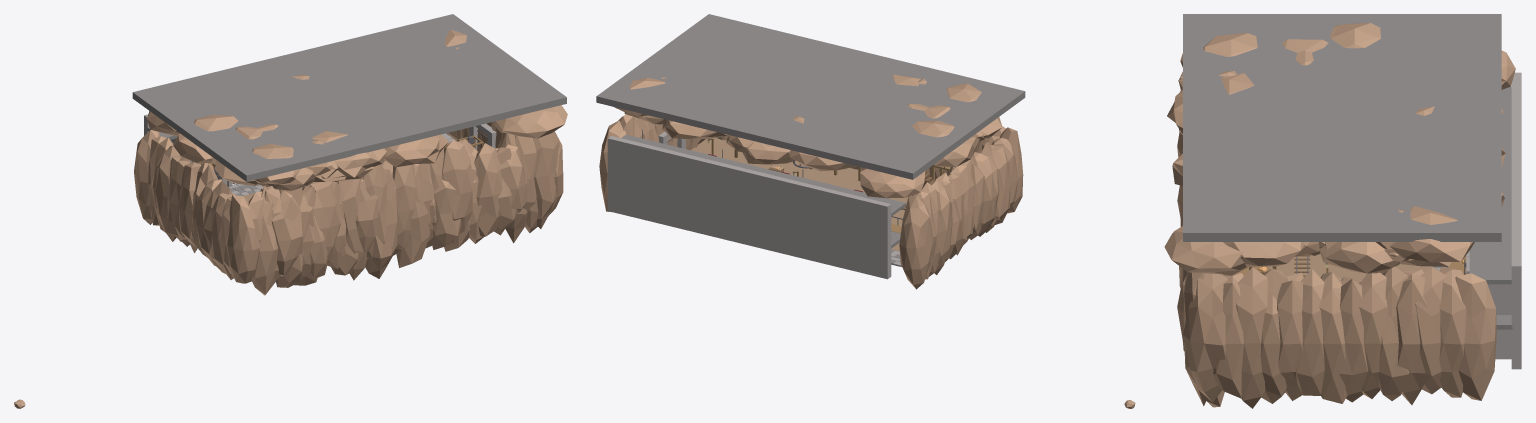
The model's file is CastleDungeon.fbx.
3 renders of one model, left to right at view 1: azimuth 30°, elevation 25°; view 2: azimuth 150°, elevation 25°; view 3: azimuth 270°, elevation 25°, orthographic. The views are drawn at different scales.
Visible parts, largest first — view 1: CastleDungeon; view 2: CastleDungeon; view 3: CastleDungeon.
Part boxes in pixels (x1=…): CastleDungeon: x1=132, y1=14, x2=567, y2=295; CastleDungeon: x1=596, y1=14, x2=1025, y2=289; CastleDungeon: x1=1164, y1=14, x2=1521, y2=408.
Size of what is drawn, in the model's own units: 80.8 by 37.44 by 35.85.
